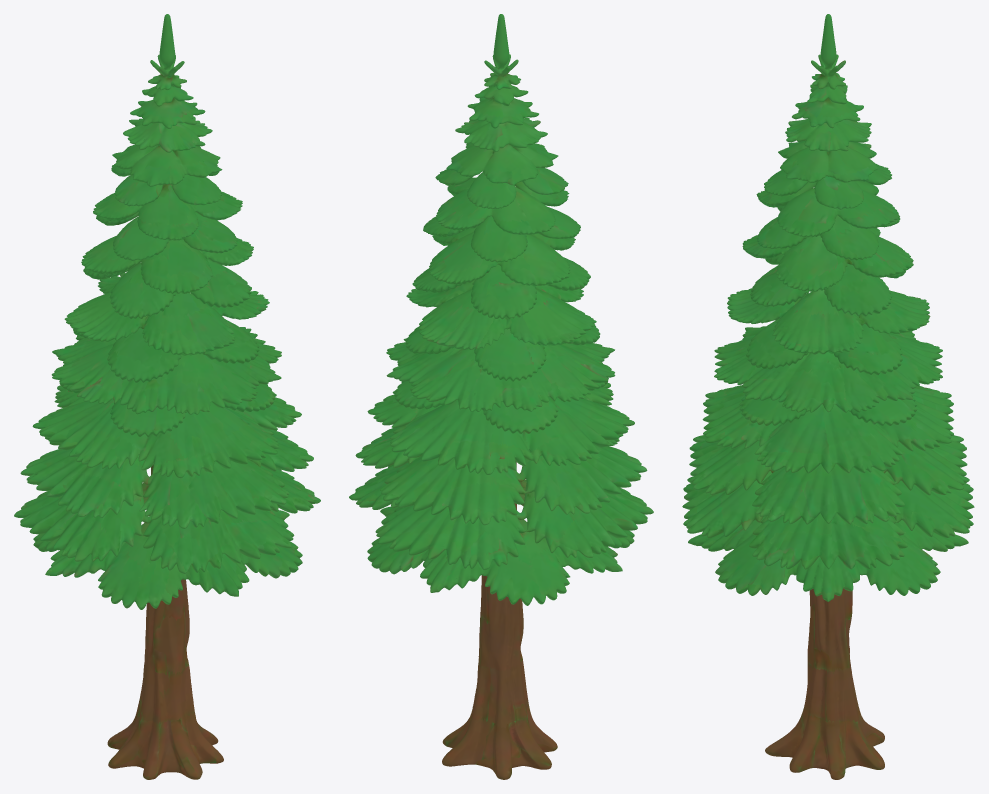
Rendered from tree_pine.glb.
The picture shows the model from 3 angles, left to right: view 1: azimuth 30°, elevation 25°; view 2: azimuth 150°, elevation 25°; view 3: azimuth 270°, elevation 25°; orthographic projection.
Parts seen in each view (by area): view 1: Mesh_0.002; view 2: Mesh_0.002; view 3: Mesh_0.002.
Part boxes in pixels (<box>): Mesh_0.002: <box>14,14,320,779</box>; Mesh_0.002: <box>349,14,653,779</box>; Mesh_0.002: <box>682,14,974,779</box>.
Size of the model in its own units: 0.7151 by 2 by 0.7149.
Materials: 1 (1 with a texture image).
